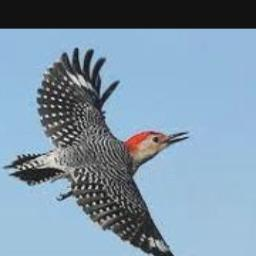Woodpecker: (3, 47, 215, 256)
